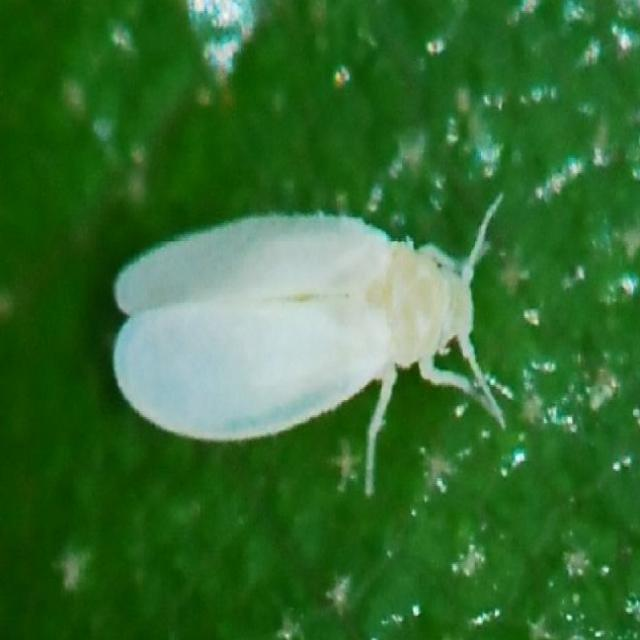Whitefly: (112, 187, 515, 504)
